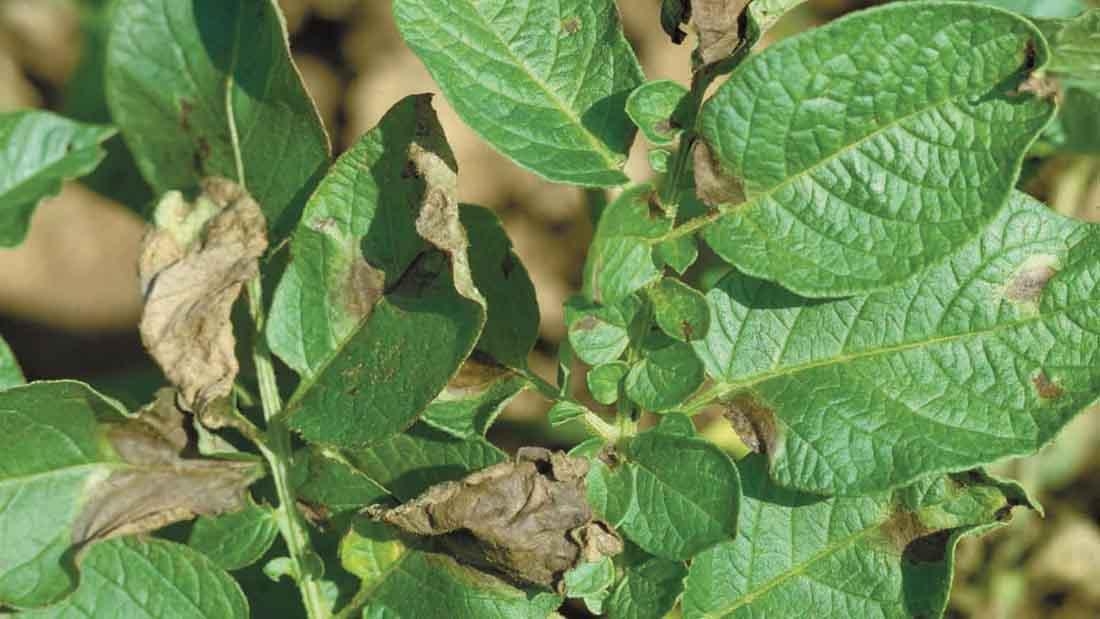Potato leaf late blight: (686, 208, 1100, 490), (244, 88, 478, 461), (682, 462, 1045, 619), (388, 1, 660, 180), (370, 444, 631, 619), (122, 153, 268, 438)
